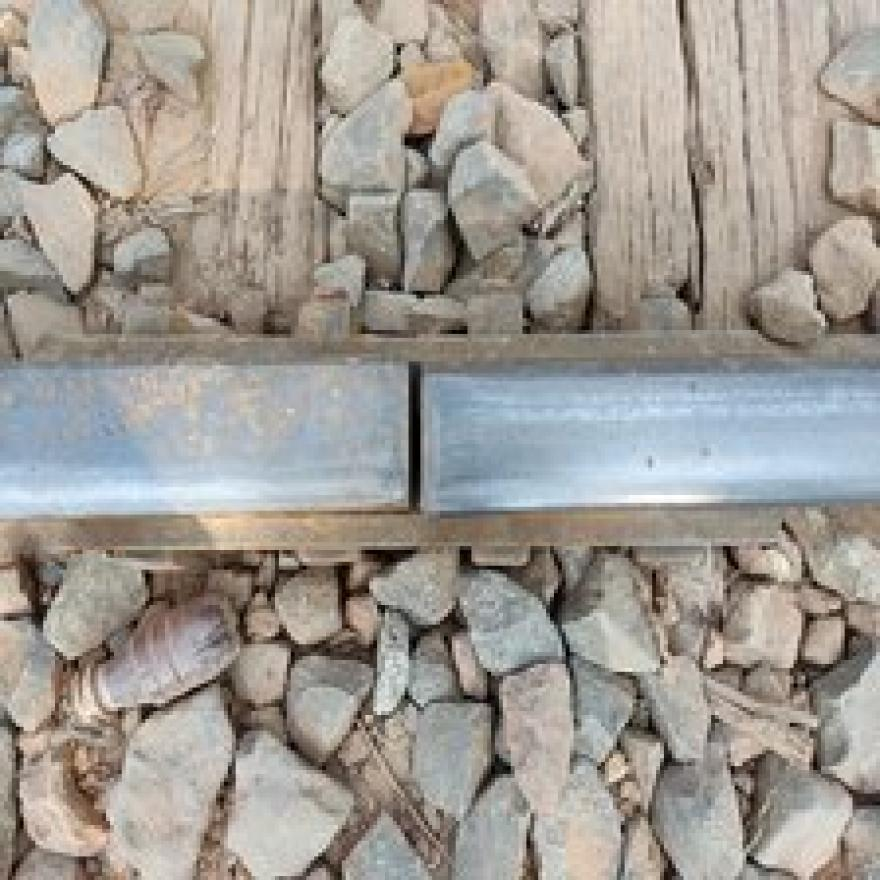railway-gap: (315, 330, 518, 536)
